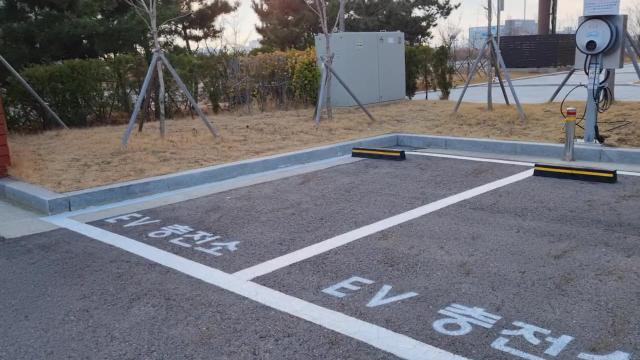empty: (38, 149, 534, 291)
